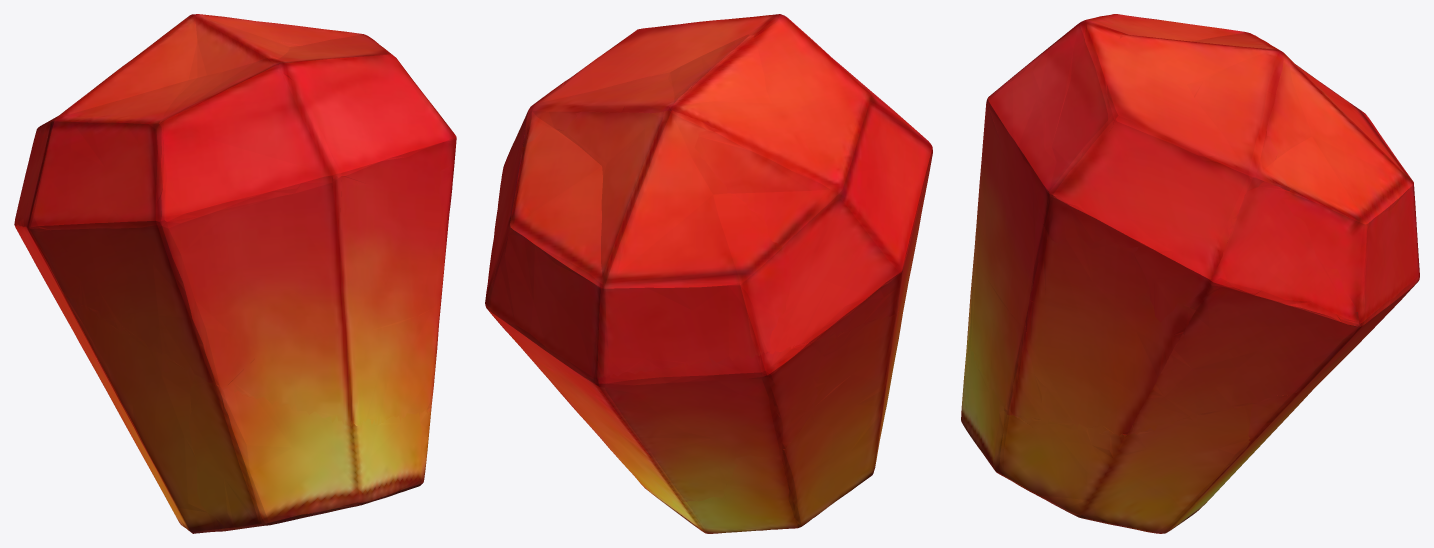
Rendered from sky-red.glb.
The picture shows the model from 3 angles, left to right: view 1: azimuth 30°, elevation 25°; view 2: azimuth 150°, elevation 25°; view 3: azimuth 270°, elevation 25°; orthographic projection.
Visible parts, largest first — view 1: sky_src.glb; view 2: sky_src.glb; view 3: sky_src.glb.
Part boxes in pixels (bbox=[...]): sky_src.glb: bbox=[14, 14, 456, 533]; sky_src.glb: bbox=[485, 14, 932, 533]; sky_src.glb: bbox=[961, 14, 1419, 533].
Size of the model in its own units: 0.1317 by 0.1526 by 0.1316.
Materials: 1 (1 with a texture image).
